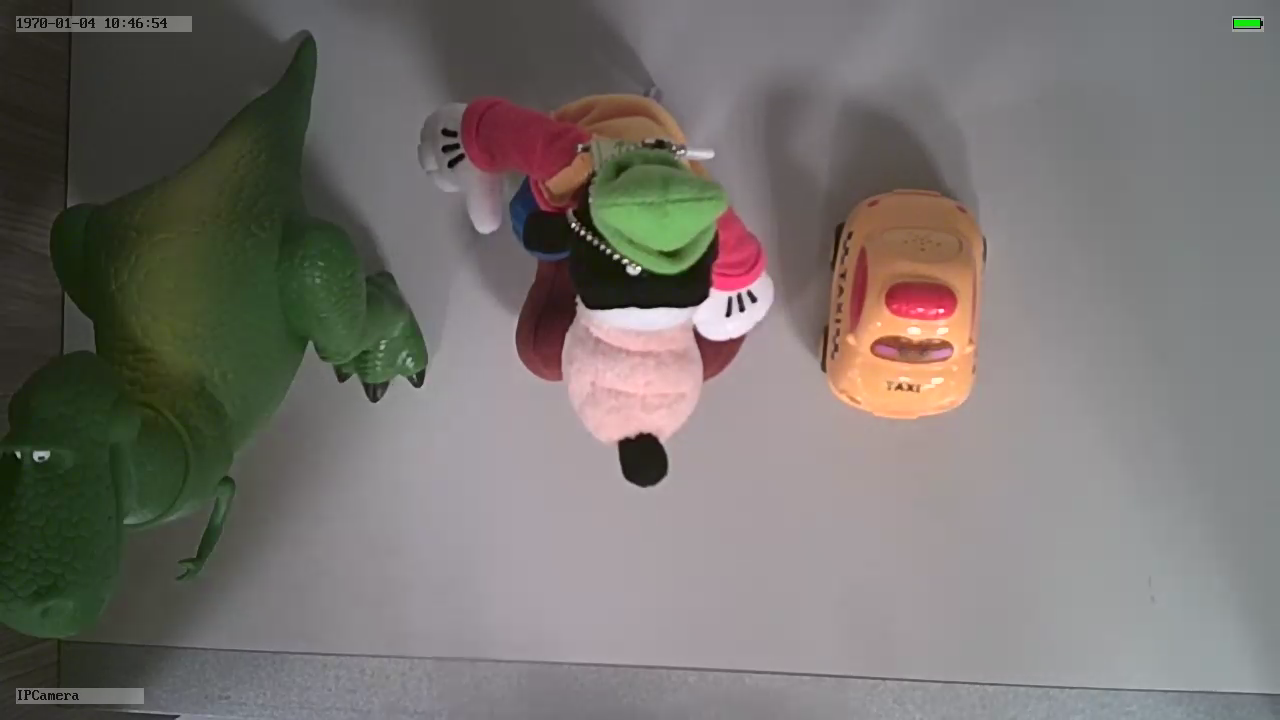goofy: (412, 90, 775, 494)
